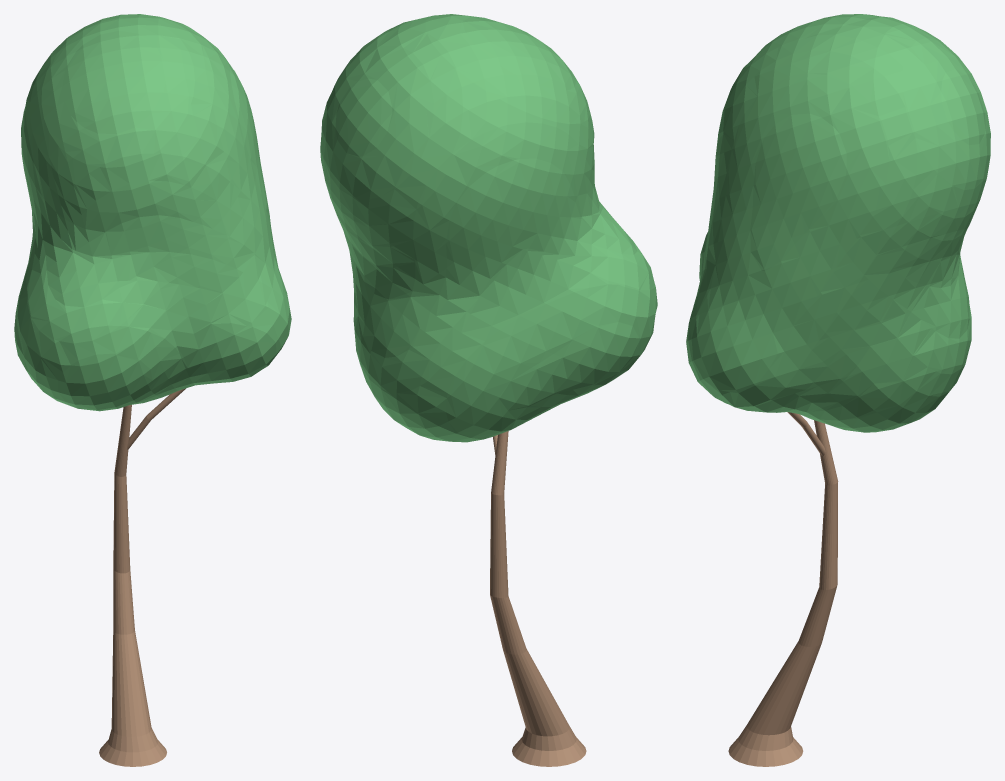
File: Cartoon_Trees_Pack_Tree_4.glb
3 views of the same model, side by side, from view 1: azimuth 30°, elevation 25°; view 2: azimuth 150°, elevation 25°; view 3: azimuth 270°, elevation 25° (orthographic). The views are drawn at different scales.
Parts seen in each view (by area): view 1: Canopy, Trunk; view 2: Canopy, Trunk; view 3: Canopy, Trunk.
Part boxes in pixels (<box>): Canopy: <box>14,14,291,411</box>; Trunk: <box>99,388,185,766</box>; Canopy: <box>320,14,657,442</box>; Trunk: <box>490,431,586,766</box>; Canopy: <box>686,14,990,432</box>; Trunk: <box>728,412,838,766</box>.
Bounding box in the file's own units: 347 × 915 × 336.
